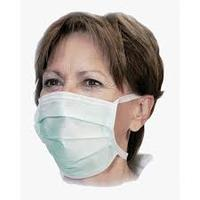flu mask: (30, 92, 136, 180)
